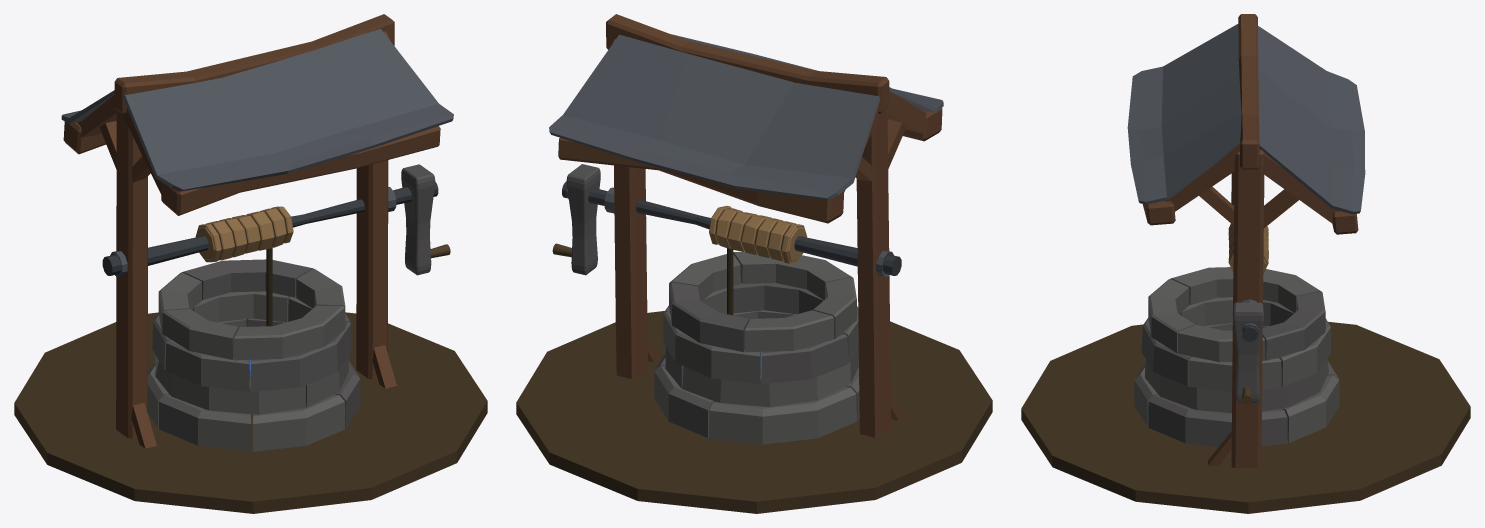
File: TheWell_2.fbx
3 renders of one model, left to right at view 1: azimuth 30°, elevation 25°; view 2: azimuth 150°, elevation 25°; view 3: azimuth 270°, elevation 25°, orthographic. The views are drawn at different scales.
Visible parts, largest first — view 1: TheWell_2; view 2: TheWell_2; view 3: TheWell_2.
Boxes of the visible parts, x1,y1,x2,y2 form: TheWell_2: (14,14,487,513); TheWell_2: (516,14,992,513); TheWell_2: (1021,14,1470,513).
Bounding box in the file's own units: 327 × 277 × 327.
